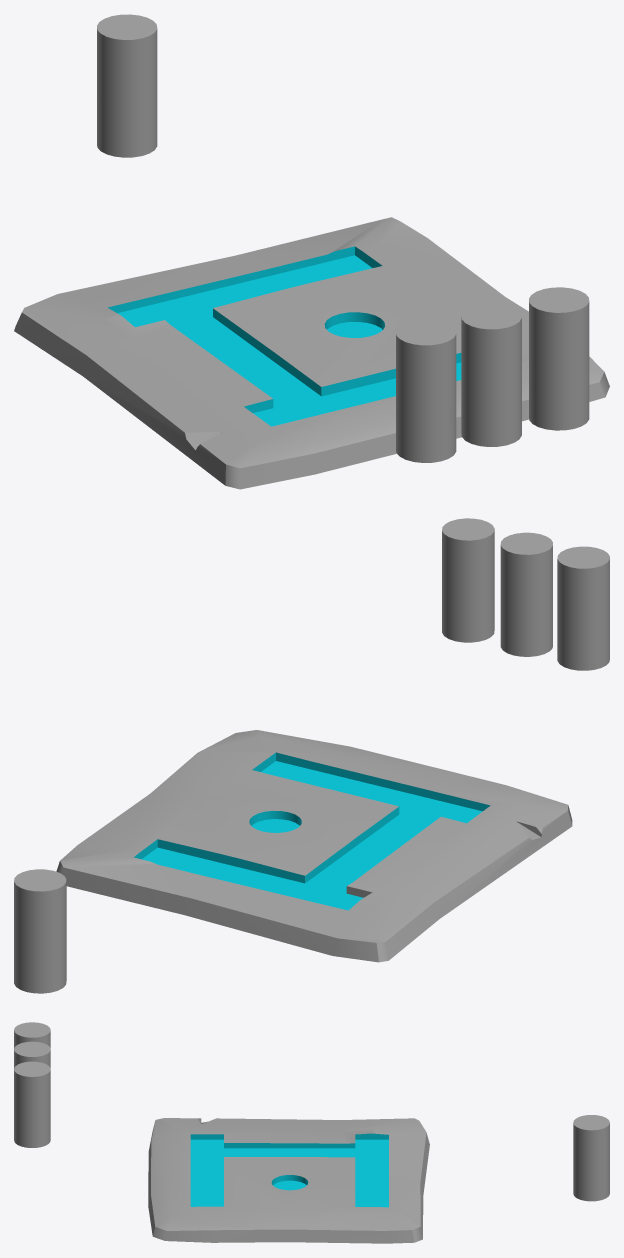
The model's file is dalle16.fbx.
3 renders of one model, top to bottom at view 1: azimuth 30°, elevation 25°; view 2: azimuth 150°, elevation 25°; view 3: azimuth 270°, elevation 25°, orthographic. The views are drawn at different scales.
Visible parts, largest first — view 1: pCube5, pasted__pasted__pasted__pCylinder1 (×2), pasted__pasted__pCylinder1, pasted__pCylinder1; view 2: pCube5, pasted__pasted__pasted__pCylinder1 (×2), pasted__pasted__pCylinder1, pasted__pCylinder1; view 3: pCube5, pasted__pasted__pasted__pCylinder1 (×2), pasted__pasted__pCylinder1, pasted__pCylinder1.
Part boxes in pixels (left/top/right/bottom): pCube5: left=14, top=217, right=609, bottom=489; pasted__pasted__pasted__pCylinder1 (×2): left=97, top=14, right=521, bottom=446; pasted__pasted__pCylinder1: left=529, top=287, right=589, bottom=430; pasted__pCylinder1: left=396, top=320, right=456, bottom=462; pCube5: left=56, top=730, right=572, bottom=962; pasted__pasted__pasted__pCylinder1 (×2): left=14, top=532, right=552, bottom=993; pasted__pasted__pCylinder1: left=442, top=518, right=494, bottom=642; pasted__pCylinder1: left=557, top=546, right=609, bottom=670; pCube5: left=148, top=1118, right=429, bottom=1243; pasted__pasted__pasted__pCylinder1 (×2): left=14, top=1041, right=609, bottom=1201; pasted__pasted__pCylinder1: left=14, top=1061, right=50, bottom=1147; pasted__pCylinder1: left=14, top=1022, right=50, bottom=1048.
Bounding box in the file's own units: 6.99 × 3.55 × 15.19.
